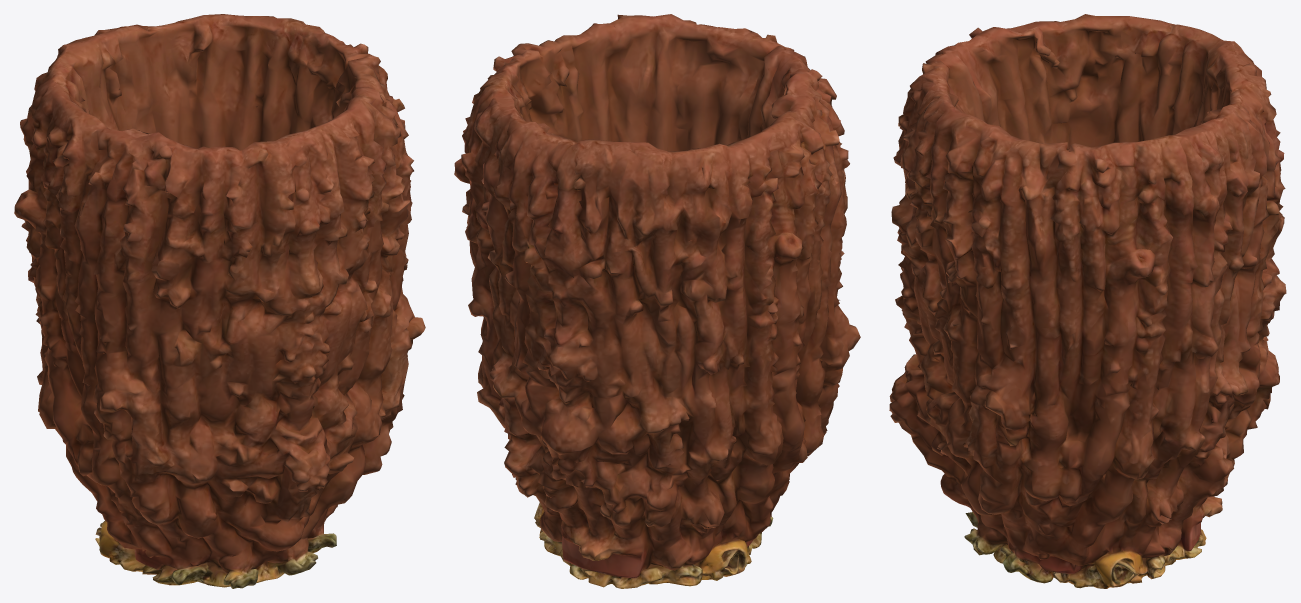
Rendered from sponge_barrel.glb.
3 renders of one model, left to right at view 1: azimuth 30°, elevation 25°; view 2: azimuth 150°, elevation 25°; view 3: azimuth 270°, elevation 25°, orthographic.
Parts seen in each view (by area): view 1: tripo_node_406594c6-01ca-4f45-a5f3-bb974aa32a6e; view 2: tripo_node_406594c6-01ca-4f45-a5f3-bb974aa32a6e; view 3: tripo_node_406594c6-01ca-4f45-a5f3-bb974aa32a6e.
Part boxes in pixels (<box>): tripo_node_406594c6-01ca-4f45-a5f3-bb974aa32a6e: <box>14,14,425,588</box>; tripo_node_406594c6-01ca-4f45-a5f3-bb974aa32a6e: <box>454,14,860,588</box>; tripo_node_406594c6-01ca-4f45-a5f3-bb974aa32a6e: <box>889,14,1286,588</box>.
Bounding box in the file's own units: 0.7859 × 1 × 0.7715.
1 material, 1 textured.
